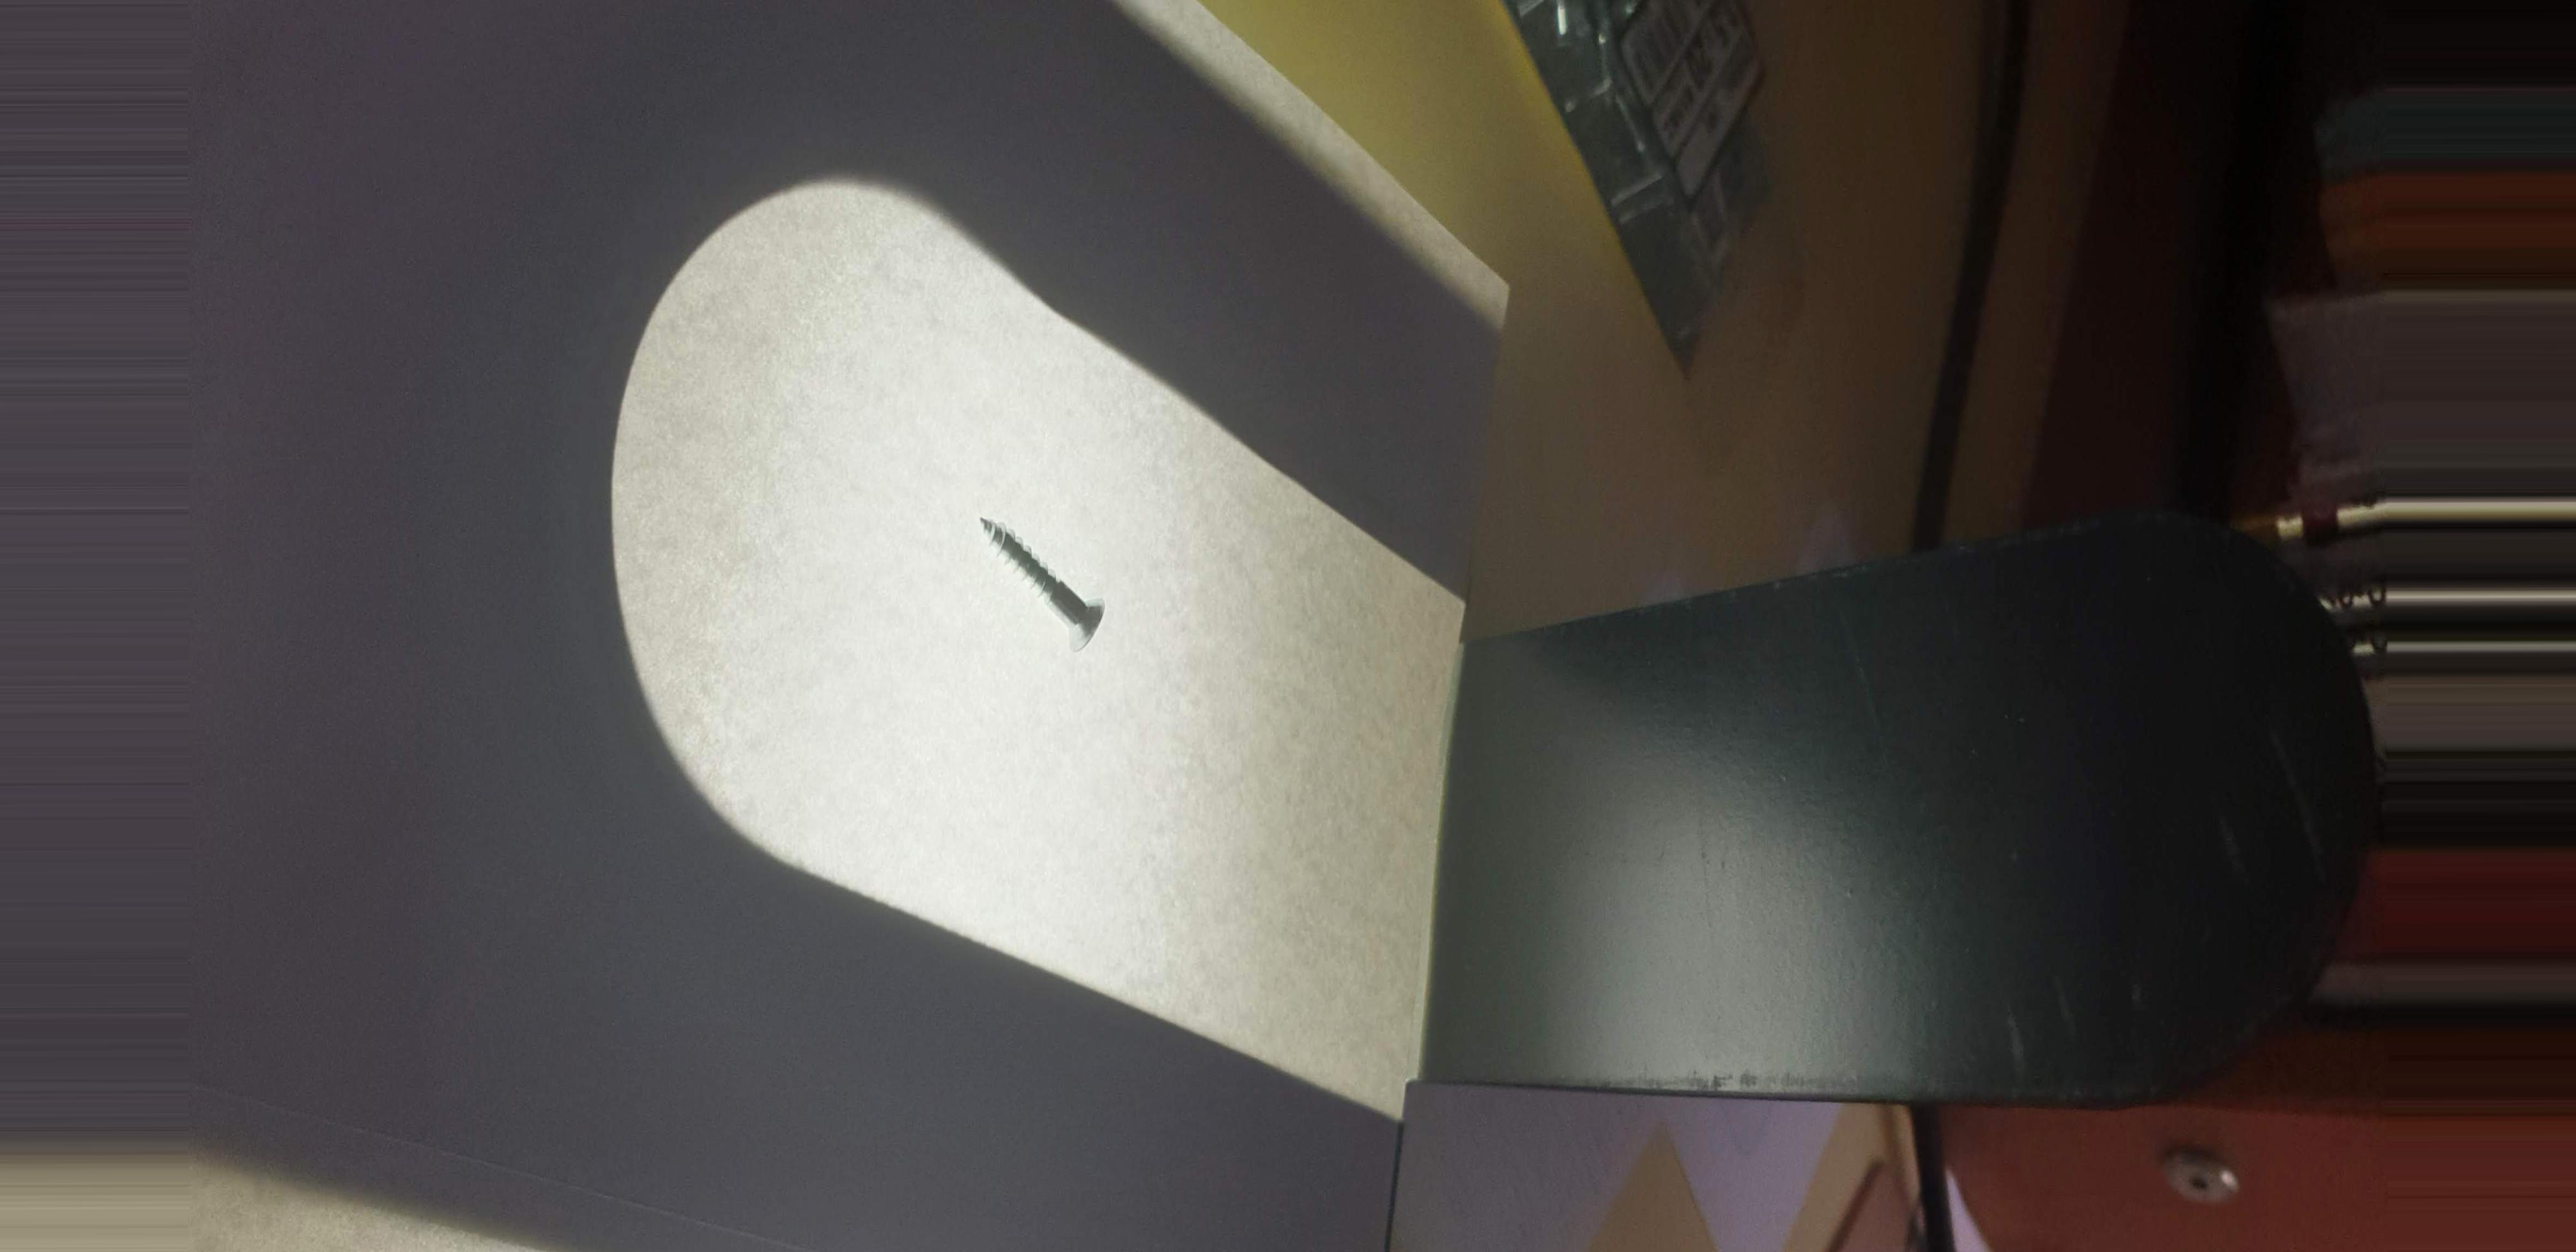S005: (969, 480, 1130, 674)
